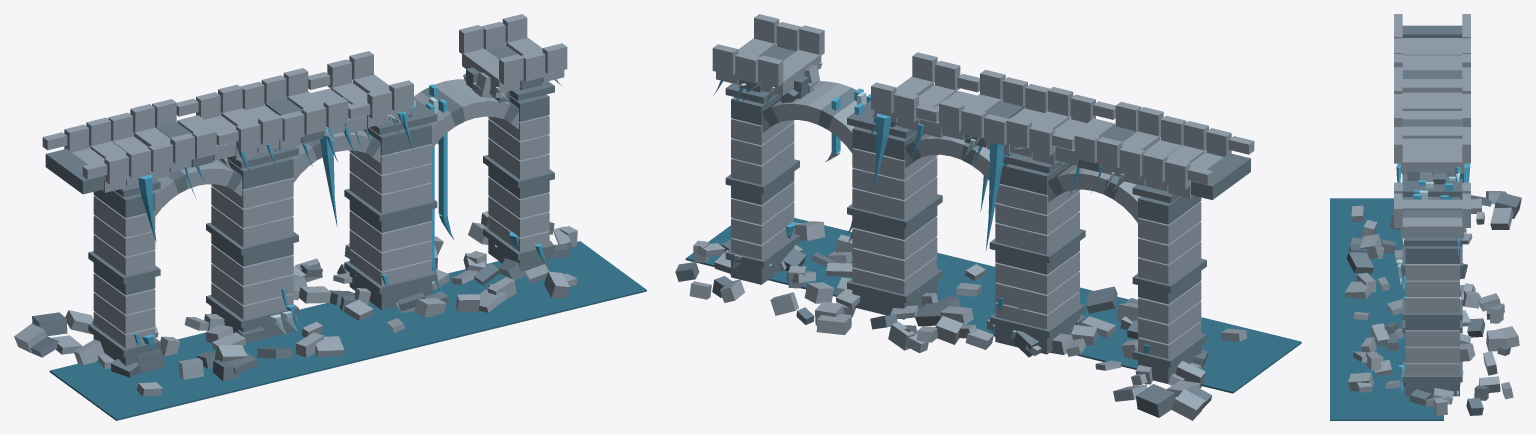
File: ruined_aqueduct_v01.glb
The picture shows the model from 3 angles, left to right: view 1: azimuth 30°, elevation 25°; view 2: azimuth 150°, elevation 25°; view 3: azimuth 270°, elevation 25°; orthographic projection. The views are drawn at different scales.
Parts seen in each view (by area): view 1: Frozen pool, Aqueduct waterbed block, Load bearing pier block.002, Load bearing pier block.003, Load bearing pier block.005, Load bearing pier block.048, Load bearing pier block.051, Load bearing pier block.006, Load bearing pier block.047, Load bearing pier block.050, Load bearing pier block.007, Load bearing pier block.012 (+73 smaller); view 2: Frozen pool, Aqueduct waterbed block, Load bearing pier block.011, Load bearing pier block.048, Load bearing pier block.003, Load bearing pier block.002, Load bearing pier block.006, Load bearing pier block.047, Load bearing pier block.051, Load bearing pier block.007, Load bearing pier block.005, Load bearing pier block.050 (+84 smaller); view 3: Frozen pool, Aqueduct waterbed block.017, Aqueduct waterbed block.014, Load bearing pier block.047, Load bearing pier block.053, Load bearing pier block.048, Load bearing pier block.050, Load bearing pier block.051, Load bearing pier block.052, Aqueduct waterbed block.006, Aqueduct waterbed block, Aqueduct waterbed block.011 (+52 smaller).
Boxes of the visible parts, x1=… form: Frozen pool: x1=49, y1=241, x2=646, y2=420; Aqueduct waterbed block: x1=45, y1=149, x2=103, y2=194; Load bearing pier block.002: x1=93, y1=292, x2=155, y2=333; Load bearing pier block.003: x1=93, y1=273, x2=155, y2=314; Load bearing pier block.005: x1=93, y1=234, x2=155, y2=275; Load bearing pier block.048: x1=488, y1=177, x2=549, y2=218; Load bearing pier block.051: x1=488, y1=119, x2=549, y2=160; Load bearing pier block.006: x1=93, y1=215, x2=155, y2=256; Load bearing pier block.047: x1=488, y1=196, x2=549, y2=237; Load bearing pier block.050: x1=488, y1=138, x2=549, y2=179; Load bearing pier block.007: x1=93, y1=196, x2=155, y2=237; Load bearing pier block.012: x1=211, y1=244, x2=272, y2=285; Frozen pool: x1=685, y1=218, x2=1301, y2=393; Aqueduct waterbed block: x1=1191, y1=153, x2=1250, y2=199; Load bearing pier block.011: x1=1016, y1=271, x2=1079, y2=314; Load bearing pier block.048: x1=731, y1=182, x2=794, y2=224; Load bearing pier block.003: x1=1138, y1=281, x2=1201, y2=324; Load bearing pier block.002: x1=1138, y1=301, x2=1201, y2=344; Load bearing pier block.006: x1=1138, y1=221, x2=1201, y2=264; Load bearing pier block.047: x1=731, y1=202, x2=794, y2=244; Load bearing pier block.051: x1=731, y1=122, x2=794, y2=165; Load bearing pier block.007: x1=1138, y1=201, x2=1201, y2=244; Load bearing pier block.005: x1=1138, y1=241, x2=1201, y2=284; Load bearing pier block.050: x1=731, y1=142, x2=794, y2=184; Frozen pool: x1=1330, y1=198, x2=1443, y2=420; Aqueduct waterbed block.017: x1=1400, y1=217, x2=1464, y2=237; Aqueduct waterbed block.014: x1=1400, y1=153, x2=1464, y2=173; Load bearing pier block.047: x1=1405, y1=346, x2=1459, y2=363; Load bearing pier block.053: x1=1405, y1=246, x2=1459, y2=263; Load bearing pier block.048: x1=1405, y1=330, x2=1459, y2=346; Load bearing pier block.050: x1=1405, y1=297, x2=1459, y2=313; Load bearing pier block.051: x1=1405, y1=280, x2=1459, y2=296; Load bearing pier block.052: x1=1405, y1=264, x2=1459, y2=280; Aqueduct waterbed block.006: x1=1402, y1=79, x2=1462, y2=92; Aqueduct waterbed block: x1=1402, y1=25, x2=1462, y2=37; Aqueduct waterbed block.011: x1=1402, y1=126, x2=1462, y2=138.
Bounding box in the file's own units: 23.01 × 9.71 × 8.42.
